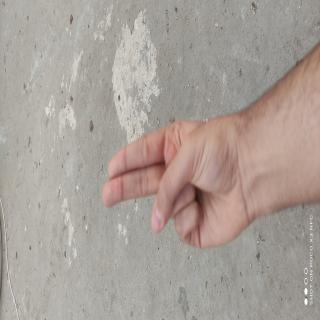TA: (29, 212, 101, 320)
